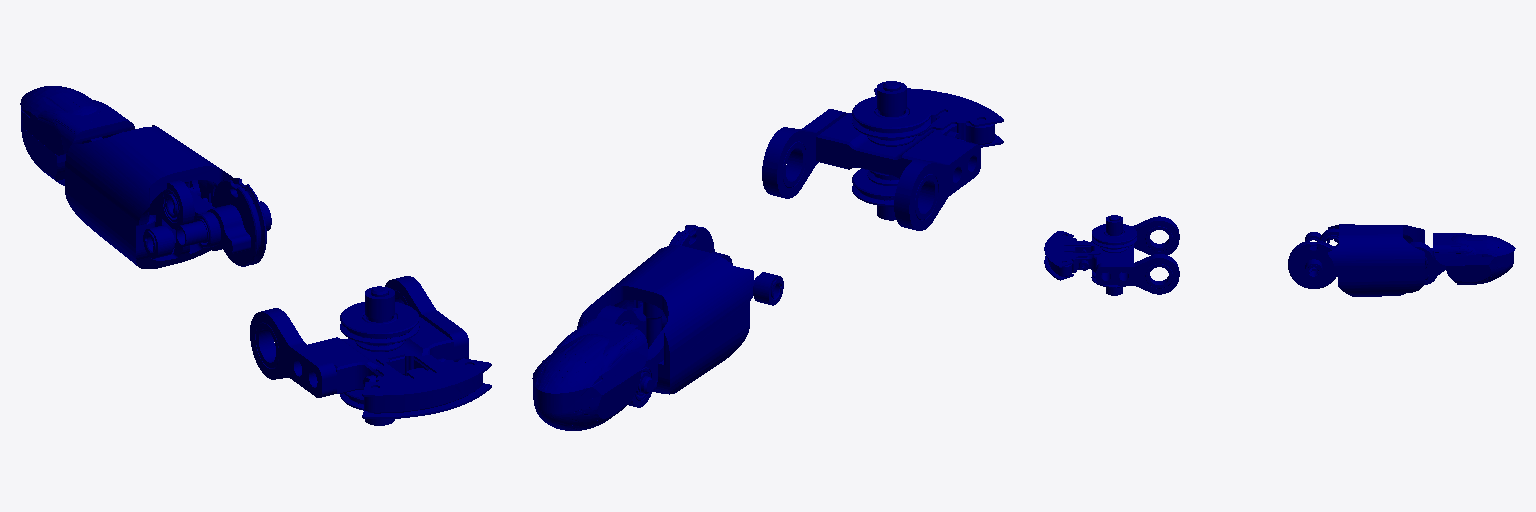
URDF robot description (finger):
<?xml version="1.0"?>
<robot name="finger">

  <!-- Generated by blender_export.py from /home/michael-jenz/rds_ws/src/robotic-finger/blender_files/rds_finger3.blend -->

  <material name="blue">
    <color rgba="0 0 1 1"/>
  </material>
  <material name="green">
    <color rgba="0 1 0 1"/>
  </material>
  <material name="red">
    <color rgba="1 0 0 1"/>
  </material>
  <material name="purple">
    <color rgba="1 0 1 1"/>
  </material>
  <material name="grey">
    <color rgba="0.5 0.5 0.5 1"/>
  </material>
  <material name="yellow">
    <color rgba="1 1 0 1"/>
  </material>

  <!-- Finger base -->
  <link name="base_link">
    <visual>
      <geometry>
        <mesh filename="package://finger_description/meshes/urdf/visual/base_link.obj"/>
      </geometry>
      <material name="actual">
        <color rgba="0.0 0.0 0.5 1.0"/>
      </material>
    </visual>
    <collision>
      <geometry>
        <mesh filename="package://finger_description/meshes/urdf/collision/col_base_link.obj"/>
      </geometry>
    </collision>
    <inertial>
      <mass value="0.05"/>
      <origin xyz="0 0 0" rpy="0 0 0"/>
      <inertia ixx="1e-05" ixy="0" ixz="0" iyy="1e-05" iyz="0" izz="1e-05"/>
    </inertial>
  </link>

  <!-- Mcp Splay -->
  <joint name="mcp_splay" type="revolute">
    <parent link="base_link"/>
    <child link="mcp_link"/>
    <origin xyz="0.0 0.0 0.0" rpy="0 0 0"/>
    <axis xyz="0.0 0.0 1.0"/>
    <limit lower="-0.55" upper="0.55" effort="5.0" velocity="3.14"/>
    <dynamics damping="0.1" friction="0.0"/>
  </joint>

  <!-- Space between MCP splay and flexion -->
  <link name="mcp_link">
    <visual>
      <geometry>
        <mesh filename="package://finger_description/meshes/urdf/visual/mcp_link.obj"/>
      </geometry>
      <material name="actual">
        <color rgba="0.0 0.0 0.5 1.0"/>
      </material>
    </visual>
    <collision>
      <geometry>
        <mesh filename="package://finger_description/meshes/urdf/collision/col_mcp_link.obj"/>
      </geometry>
    </collision>
    <inertial>
      <mass value="0.01"/>
      <origin xyz="0 0 0" rpy="0 0 0"/>
      <inertia ixx="1e-05" ixy="0" ixz="0" iyy="1e-05" iyz="0" izz="1e-05"/>
    </inertial>
  </link>

  <!-- Mcp Flexion -->
  <joint name="mcp_flexion" type="revolute">
    <parent link="mcp_link"/>
    <child link="proximal_phalanx"/>
    <origin xyz="0.0 0.0178 -0.0" rpy="0 0 0"/>
    <axis xyz="-1.0 0.0 0.0"/>
    <limit lower="0.0" upper="1.57" effort="5.0" velocity="3.14"/>
    <dynamics damping="0.1" friction="0.0"/>
  </joint>

  <!-- Proximal phalanx -->
  <link name="proximal_phalanx">
    <visual>
      <geometry>
        <mesh filename="package://finger_description/meshes/urdf/visual/proximal_phalanx.obj"/>
      </geometry>
      <material name="actual">
        <color rgba="0.0 0.0 0.5 1.0"/>
      </material>
    </visual>
    <collision>
      <geometry>
        <mesh filename="package://finger_description/meshes/urdf/collision/col_proximal_phalanx.obj"/>
      </geometry>
    </collision>
    <inertial>
      <mass value="0.01"/>
      <origin xyz="0 0 0" rpy="0 0 0"/>
      <inertia ixx="1e-05" ixy="0" ixz="0" iyy="1e-05" iyz="0" izz="1e-05"/>
    </inertial>
  </link>

  <!-- Pip Flexion -->
  <joint name="pip_flexion" type="revolute">
    <parent link="proximal_phalanx"/>
    <child link="middle_phalanx"/>
    <origin xyz="0.0 0.0612 0.0" rpy="0 0 0"/>
    <axis xyz="-1.0 0.0 0.0"/>
    <limit lower="0.0" upper="1.57" effort="5.0" velocity="3.14"/>
    <dynamics damping="0.1" friction="0.0"/>
  </joint>

  <!-- Middle phalanx -->
  <link name="middle_phalanx">
    <visual>
      <geometry>
        <mesh filename="package://finger_description/meshes/urdf/visual/middle_phalanx.obj"/>
      </geometry>
      <material name="actual">
        <color rgba="0.0 0.0 0.5 1.0"/>
      </material>
    </visual>
    <collision>
      <geometry>
        <mesh filename="package://finger_description/meshes/urdf/collision/col_middle_phalanx.obj"/>
      </geometry>
    </collision>
    <inertial>
      <mass value="0.008"/>
      <origin xyz="0 0 0" rpy="0 0 0"/>
      <inertia ixx="5e-06" ixy="0" ixz="0" iyy="5e-06" iyz="0" izz="5e-06"/>
    </inertial>
  </link>

  <!-- Dip Flexion -->
  <joint name="dip_flexion" type="revolute">
    <parent link="middle_phalanx"/>
    <child link="distal_phalanx"/>
    <origin xyz="0.0036 0.0406 0.0" rpy="0 0 0"/>
    <axis xyz="-1.0 0.0 0.0"/>
    <limit lower="0.0" upper="1.57" effort="3.0" velocity="3.14"/>
    <dynamics damping="0.1" friction="0.0"/>
    <mimic joint="pip_flexion" multiplier="0.85" offset="0.0"/>
  </joint>

  <!-- Distal phalanx -->
  <link name="distal_phalanx">
    <visual>
      <geometry>
        <mesh filename="package://finger_description/meshes/urdf/visual/distal_phalanx.obj"/>
      </geometry>
      <material name="actual">
        <color rgba="0.0 0.0 0.5 1.0"/>
      </material>
    </visual>
    <collision>
      <geometry>
        <mesh filename="package://finger_description/meshes/urdf/collision/col_distal_phalanx.obj"/>
      </geometry>
    </collision>
    <inertial>
      <mass value="0.005"/>
      <origin xyz="0 0 0" rpy="0 0 0"/>
      <inertia ixx="2e-06" ixy="0" ixz="0" iyy="2e-06" iyz="0" izz="2e-06"/>
    </inertial>
  </link>

</robot>

--- What the picture shows (computed from the rendered views, not written in the file) ---
3 views of the same robot in one strip: view 1: azimuth 30°, elevation 25°; view 2: azimuth 150°, elevation 25°; view 3: azimuth 270°, elevation 25° (orthographic).
Robot: finger — 5 links, 4 joints (4 revolute); root link base_link; default pose: all joints at 0.
Visible links, largest first — view 1: mcp_link, middle_phalanx, distal_phalanx; view 2: mcp_link, middle_phalanx, distal_phalanx; view 3: middle_phalanx, mcp_link, distal_phalanx.
Link boxes in pixels (left/top/right/bottom): mcp_link: left=250, top=276, right=491, bottom=425; middle_phalanx: left=65, top=125, right=271, bottom=268; distal_phalanx: left=20, top=86, right=134, bottom=185; mcp_link: left=762, top=81, right=1003, bottom=230; middle_phalanx: left=577, top=225, right=783, bottom=407; distal_phalanx: left=532, top=319, right=652, bottom=430; middle_phalanx: left=1288, top=224, right=1436, bottom=296; mcp_link: left=1044, top=215, right=1179, bottom=295; distal_phalanx: left=1424, top=233, right=1515, bottom=284.
Size in the robot's own frame: 0.039 by 0.1866 by 0.034 metres.
3 mesh visuals loaded from 5 distinct referenced files (3 OBJ); not drawn: 2 (reference not matched to a file when rendering).
